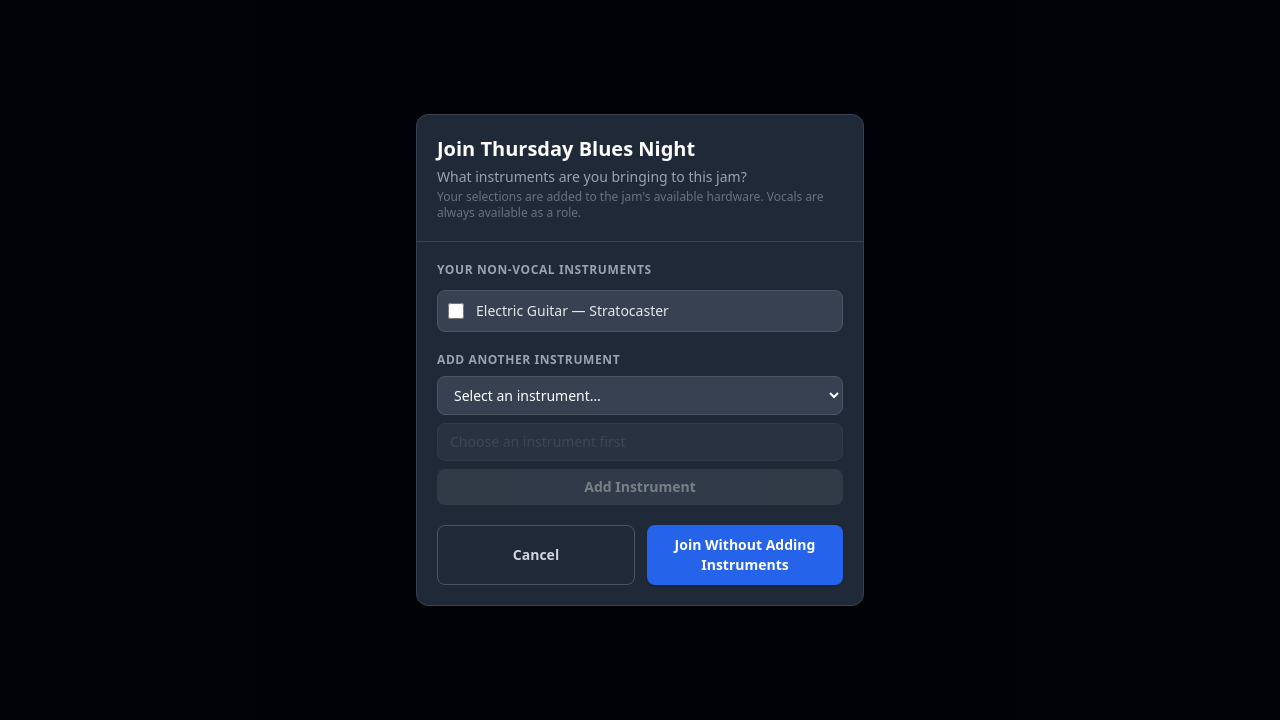
Test: JoinJamModal › toggles a profile instrument and updates the confirm label
The width and height of the screenshot is (1280, 720).
Click the checkbox labelled "Electric Guitar — Stratocaster". click: (456, 311)
box: x1=448 y1=303 x2=464 y2=319
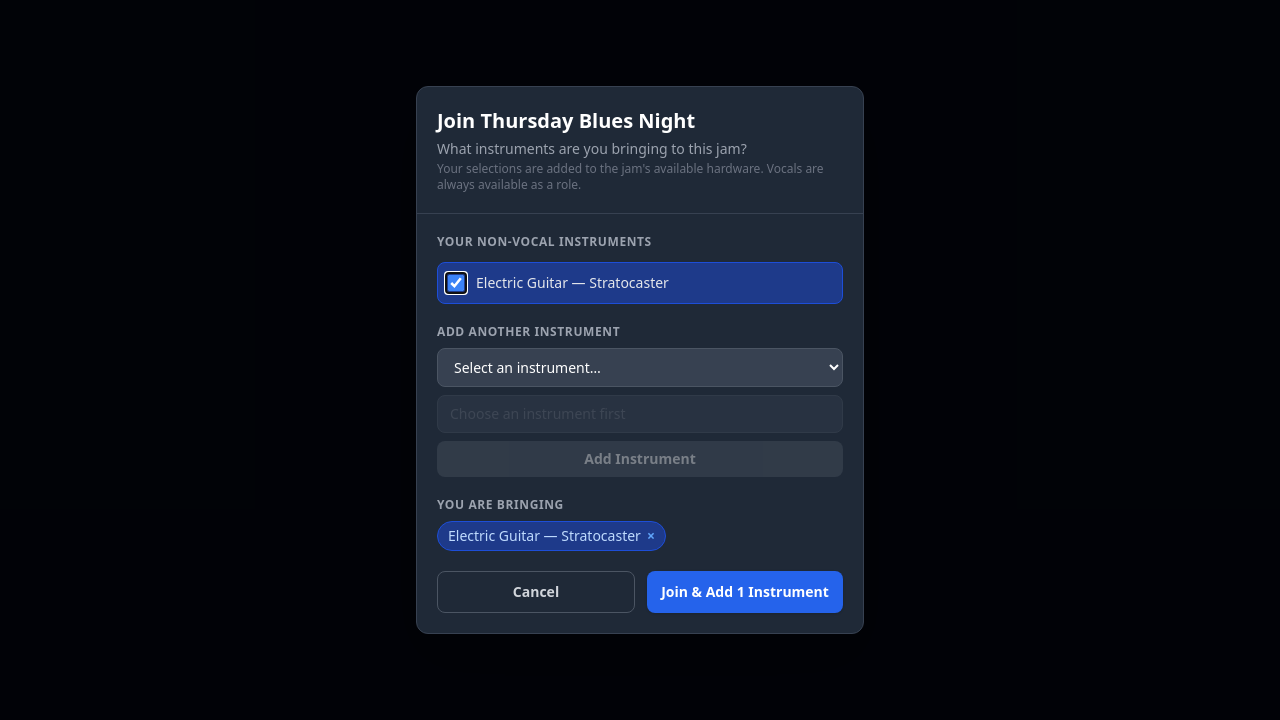
Expected: the button "Join & Add 1 Instrument" is shown, x1=647 y1=571 x2=843 y2=613
